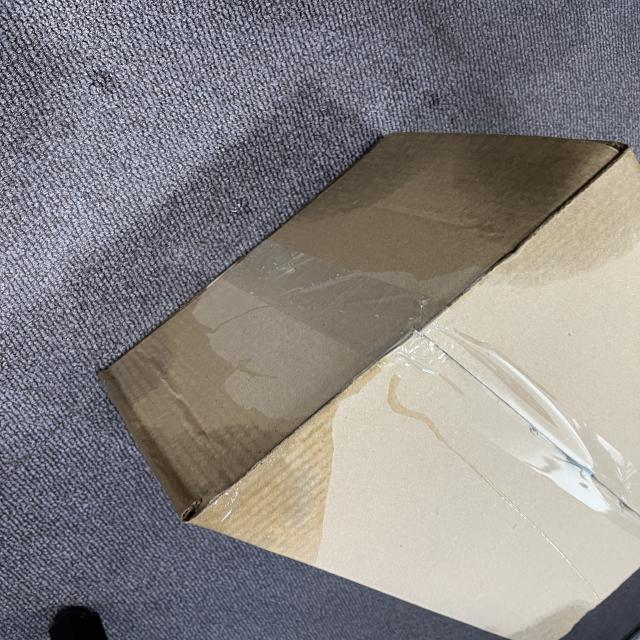hole: (18, 600, 136, 640)
wet: (122, 324, 337, 554), (313, 141, 640, 281)
